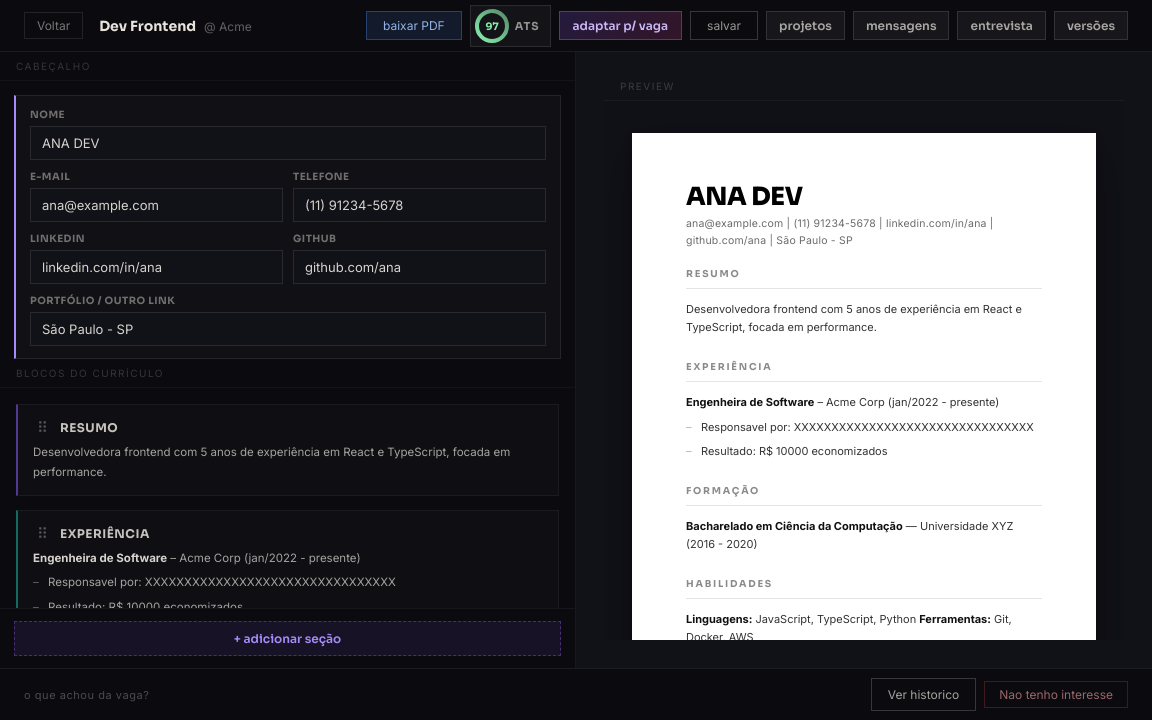
CvEditor — ATS Center › ao clicar em "ajustar" uma seção existente, fecha o painel E abre/rola até o bloco — não apenas fecha o menu
Click the button titled "ATS Center" at (510, 26), box [470,4,550,46]
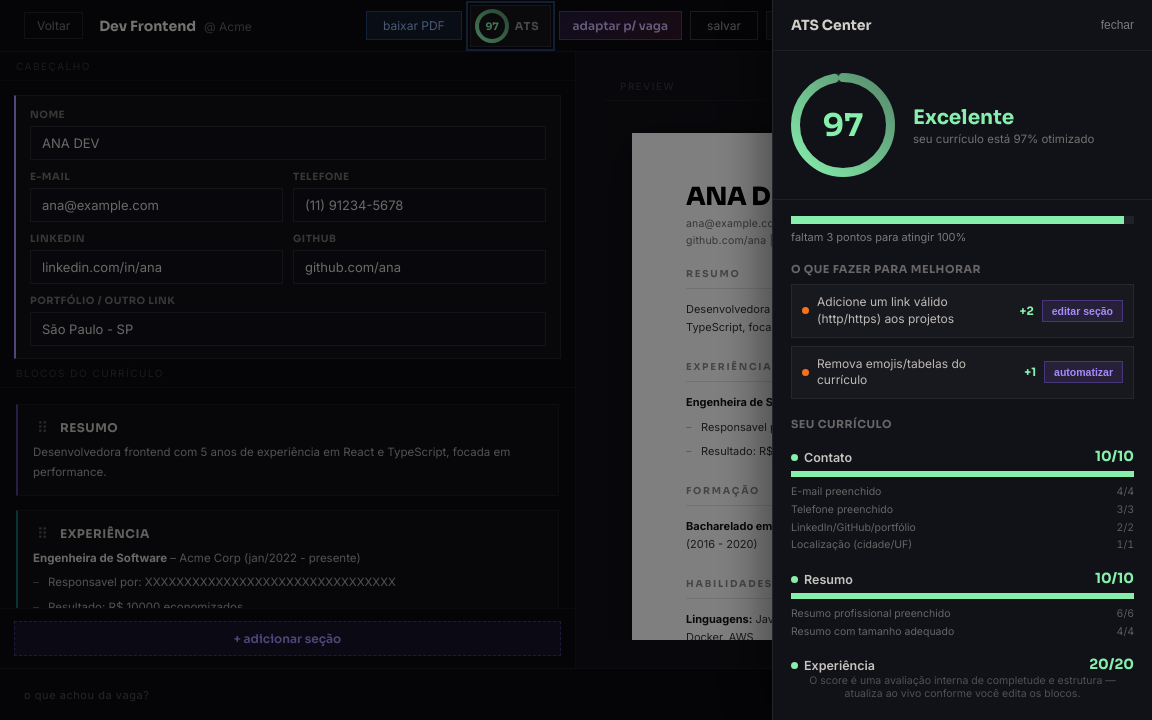
Expected: the text "Adicione um link válido (http/https) aos projetos" is shown, [817,294,954,326]
Click the button "editar seção" at (1082, 311), box [1042,300,1123,322]
(page scrolled)
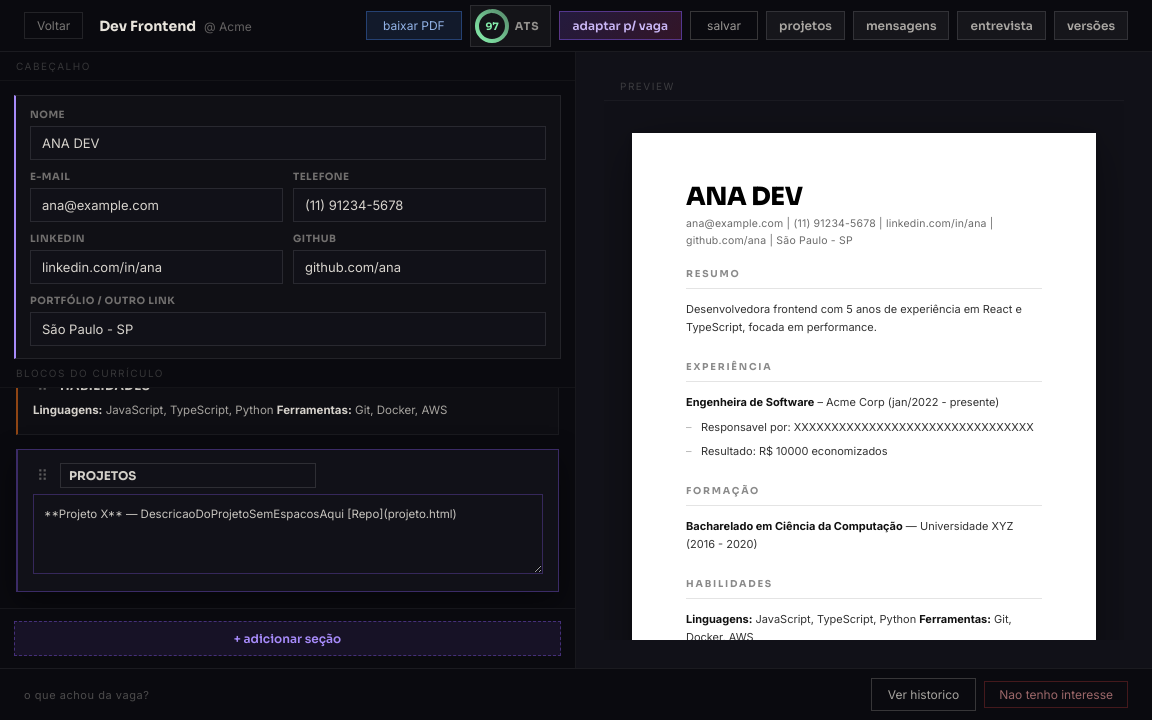
Expected: the element with id "cv-block-b-projetos" is shown, [16,449,559,592]
Expected: the text "O que fazer para melhorar" is gone
